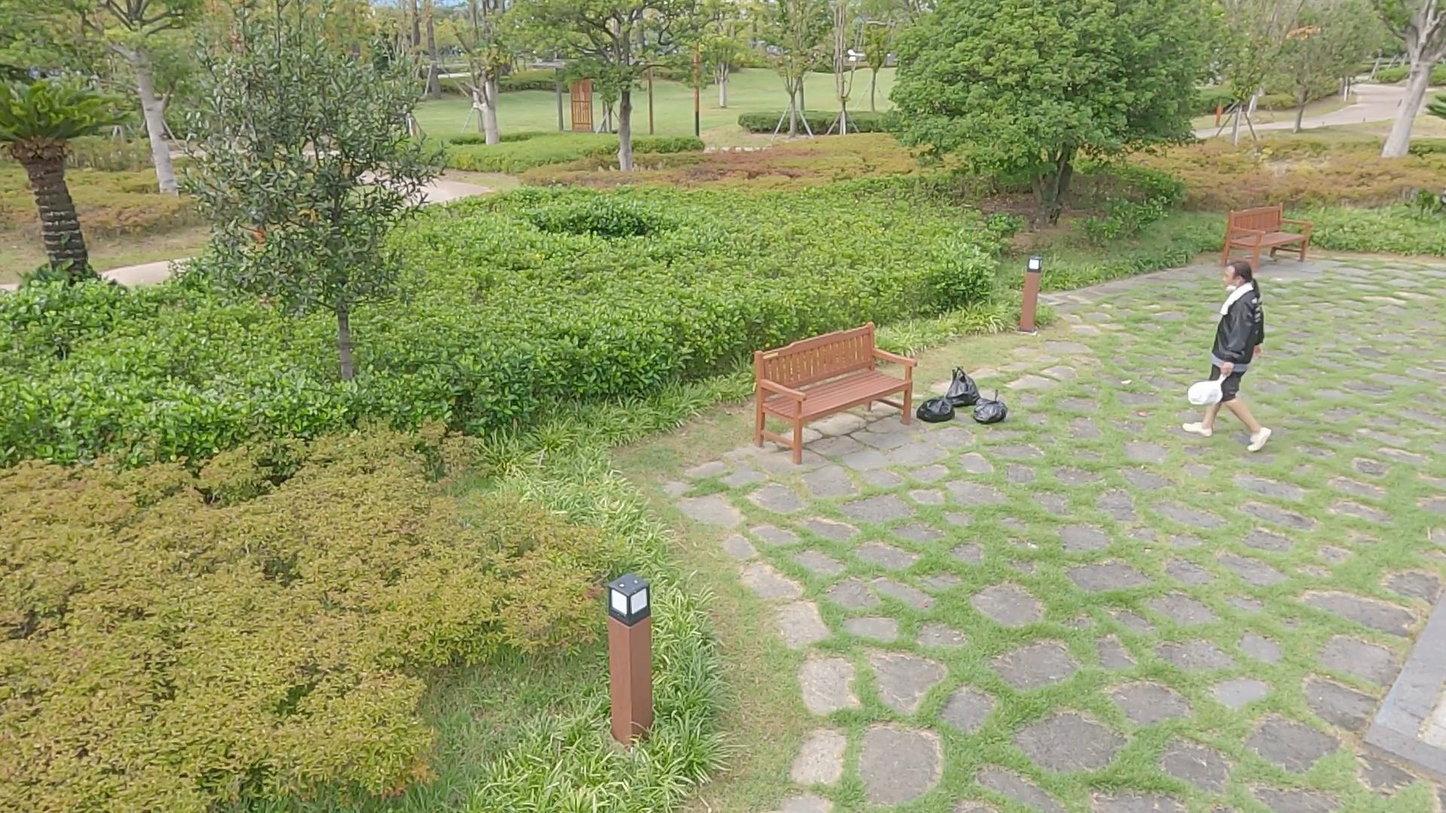person: (1185, 261, 1274, 456)
trash: (943, 362, 980, 410), (1186, 370, 1230, 409), (971, 387, 1007, 427), (918, 393, 957, 425)
